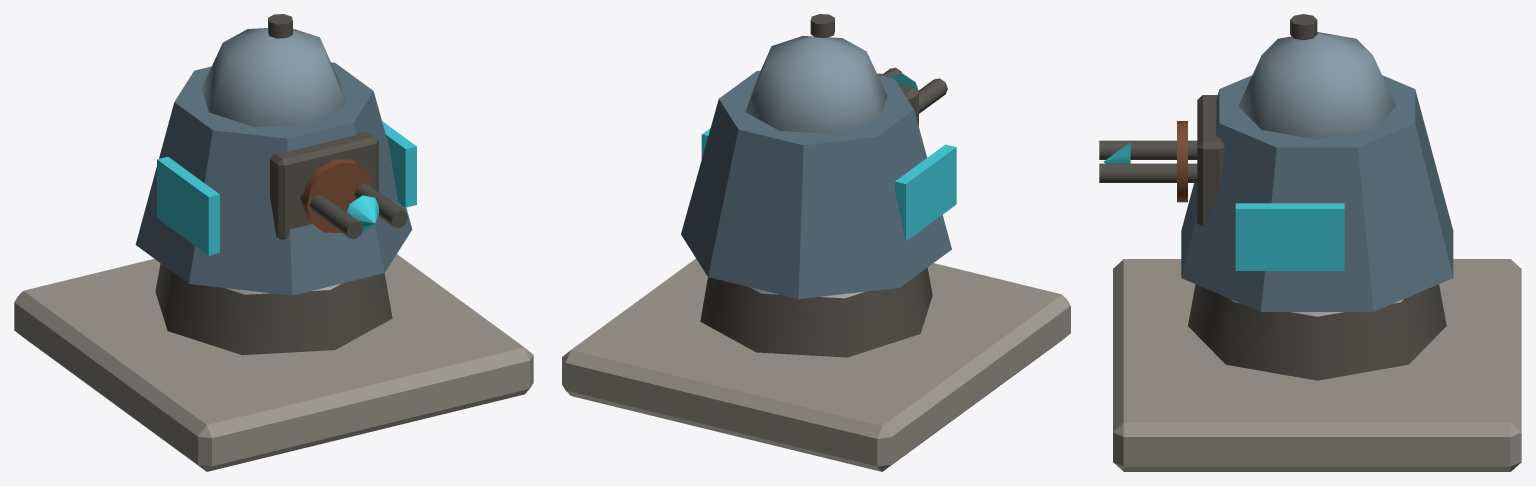
3 renders of one model, left to right at view 1: azimuth 30°, elevation 25°; view 2: azimuth 150°, elevation 25°; view 3: azimuth 270°, elevation 25°, orthographic. The views are drawn at different scales.
Parts seen in each view (by area): view 1: dweller_building_turret_laser; view 2: dweller_building_turret_laser; view 3: dweller_building_turret_laser.
Boxes of the visible parts, left/top/right/bottom form: dweller_building_turret_laser: left=14, top=14, right=533, bottom=471; dweller_building_turret_laser: left=562, top=14, right=1070, bottom=471; dweller_building_turret_laser: left=1099, top=14, right=1521, bottom=471.
Size of the model in its own units: 3 by 3 by 3.1.
